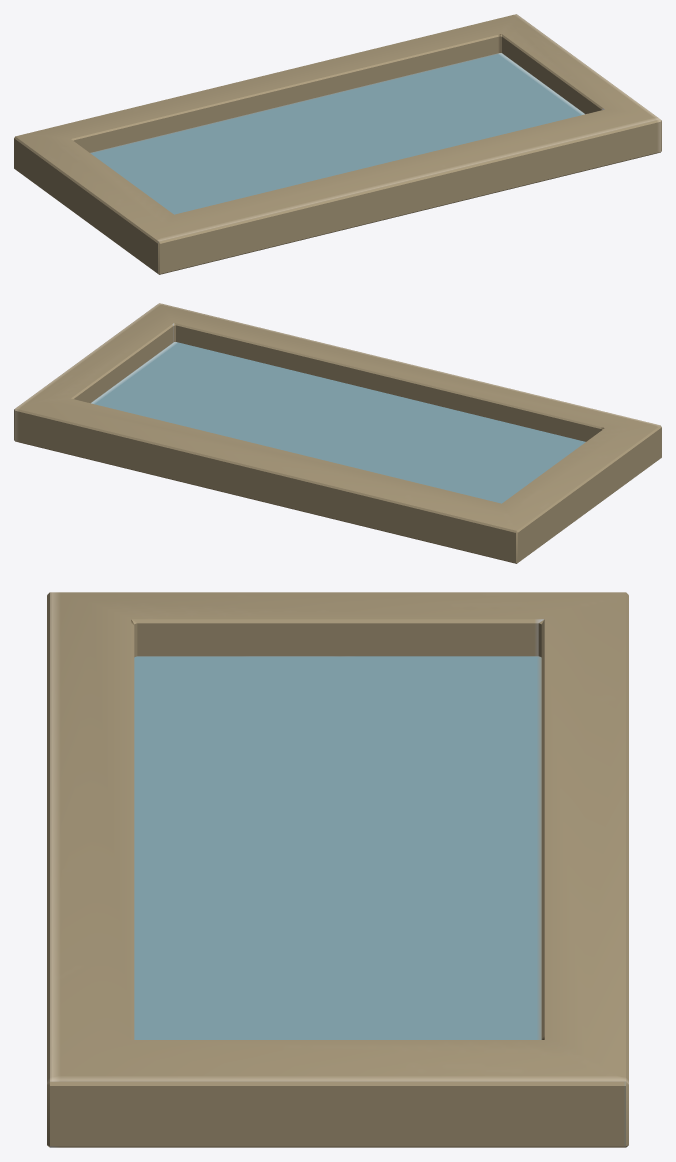
The model's file is pool_LOD0.fbx.
3 views of the same model, one above another, from view 1: azimuth 30°, elevation 25°; view 2: azimuth 150°, elevation 25°; view 3: azimuth 270°, elevation 25° (orthographic). The views are drawn at different scales.
Parts seen in each view (by area): view 1: pool_LOD0; view 2: pool_LOD0; view 3: pool_LOD0.
Part boxes in pixels (x1,y1,x2,y2): pool_LOD0: (14,14,661,274); pool_LOD0: (14,303,661,563); pool_LOD0: (47,592,628,1147).
Bounding box in the file's own units: 800 × 55.77 × 400.
